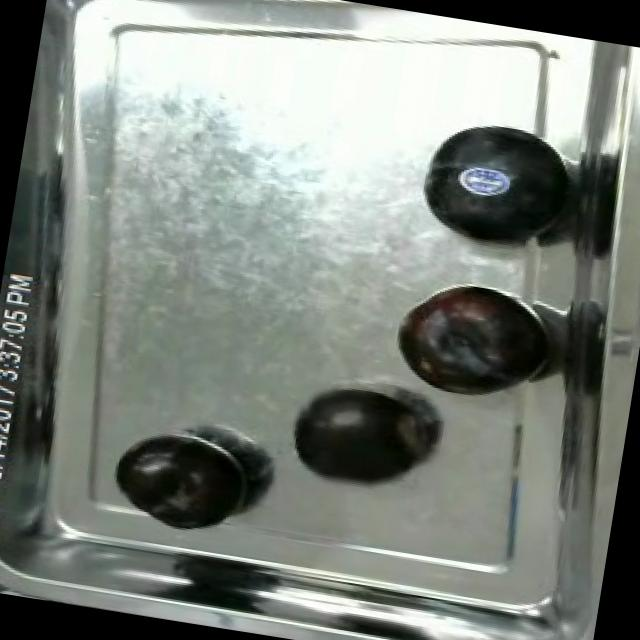Fruit: (400, 100, 586, 266), (383, 270, 558, 406), (98, 415, 261, 541), (280, 373, 426, 494)
